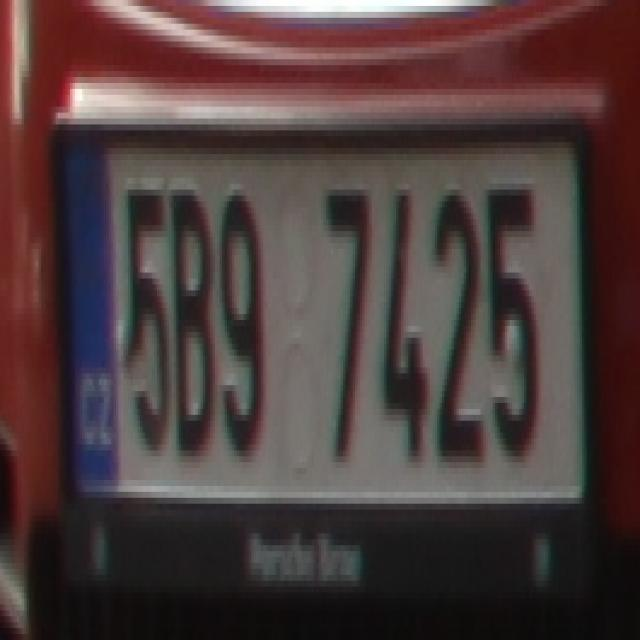2: (430, 184, 483, 462)
4: (379, 178, 428, 456)
5: (486, 172, 544, 450), (121, 178, 169, 450)
7: (324, 184, 376, 456)
9: (220, 178, 268, 456)
B: (169, 178, 217, 456)
